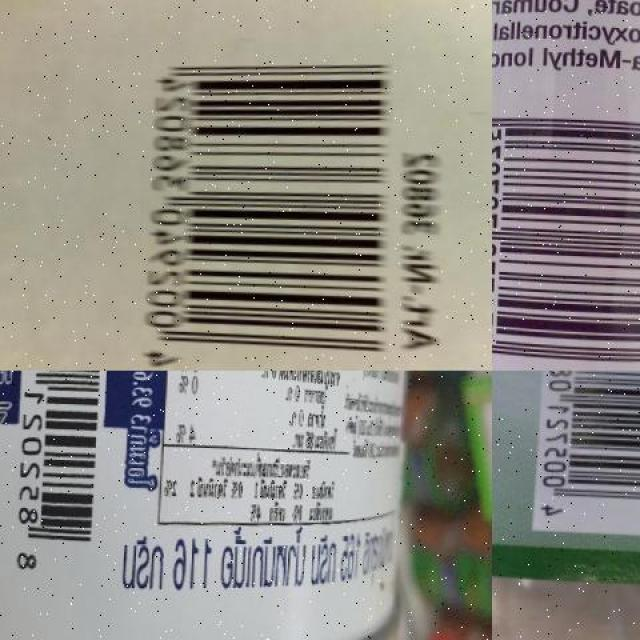Barcode: (119, 37, 461, 371), (492, 84, 640, 371), (17, 371, 112, 585), (533, 371, 640, 537)
